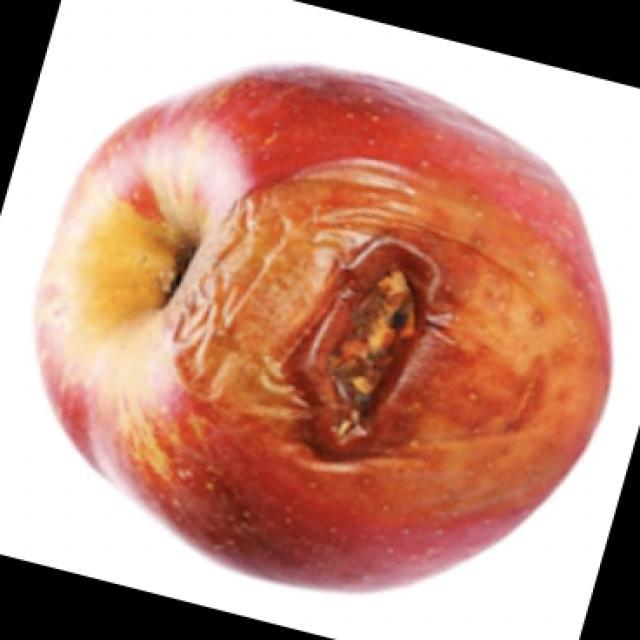Rotten: (58, 60, 595, 563)
